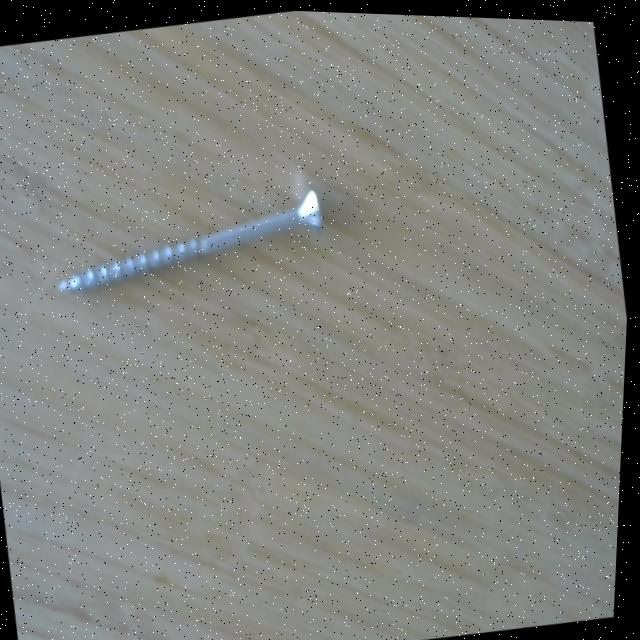Long screw: (47, 170, 342, 320)
